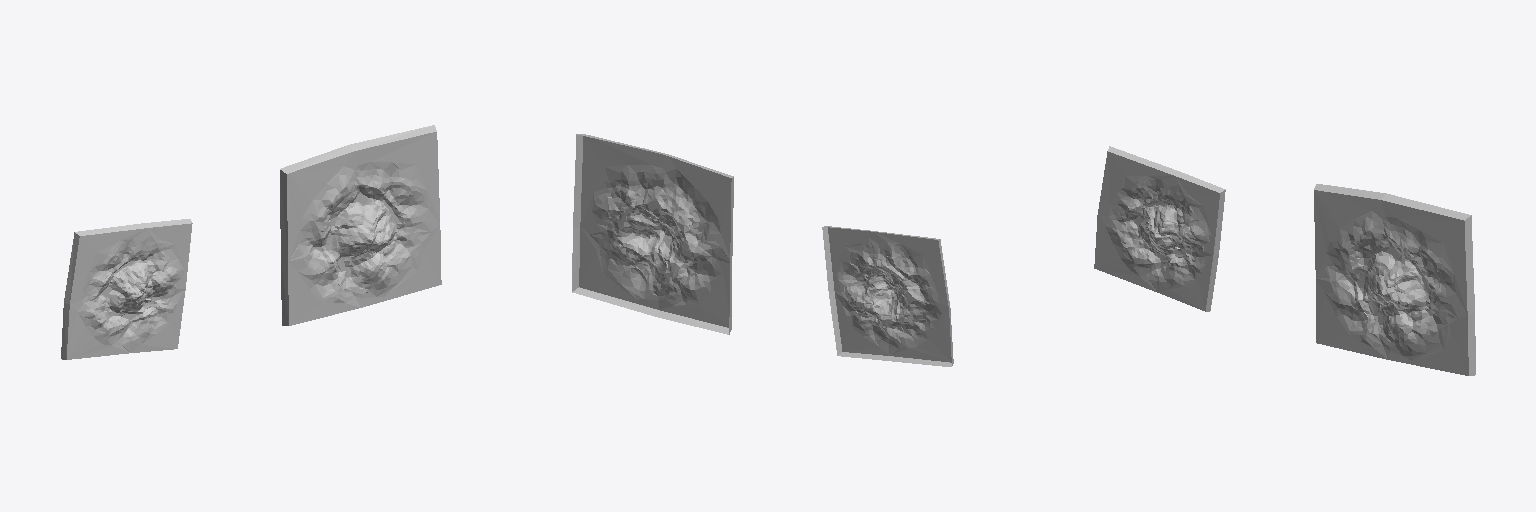
File: lake_ground.obj
The picture shows the model from 3 angles: view 1: azimuth 30°, elevation 25°; view 2: azimuth 150°, elevation 25°; view 3: azimuth 330°, elevation 25°; orthographic projection.
Visible parts, largest first — view 1: PP_Lake_Ground_04_1; view 2: PP_Lake_Ground_04_1; view 3: PP_Lake_Ground_04_1.
Part boxes in pixels (x1,y1,x2,y2): PP_Lake_Ground_04_1: (61, 125, 441, 359); PP_Lake_Ground_04_1: (572, 134, 953, 366); PP_Lake_Ground_04_1: (1094, 146, 1475, 375).
Size of the model in its own units: 0.3824 by 0.1586 by 0.0226.